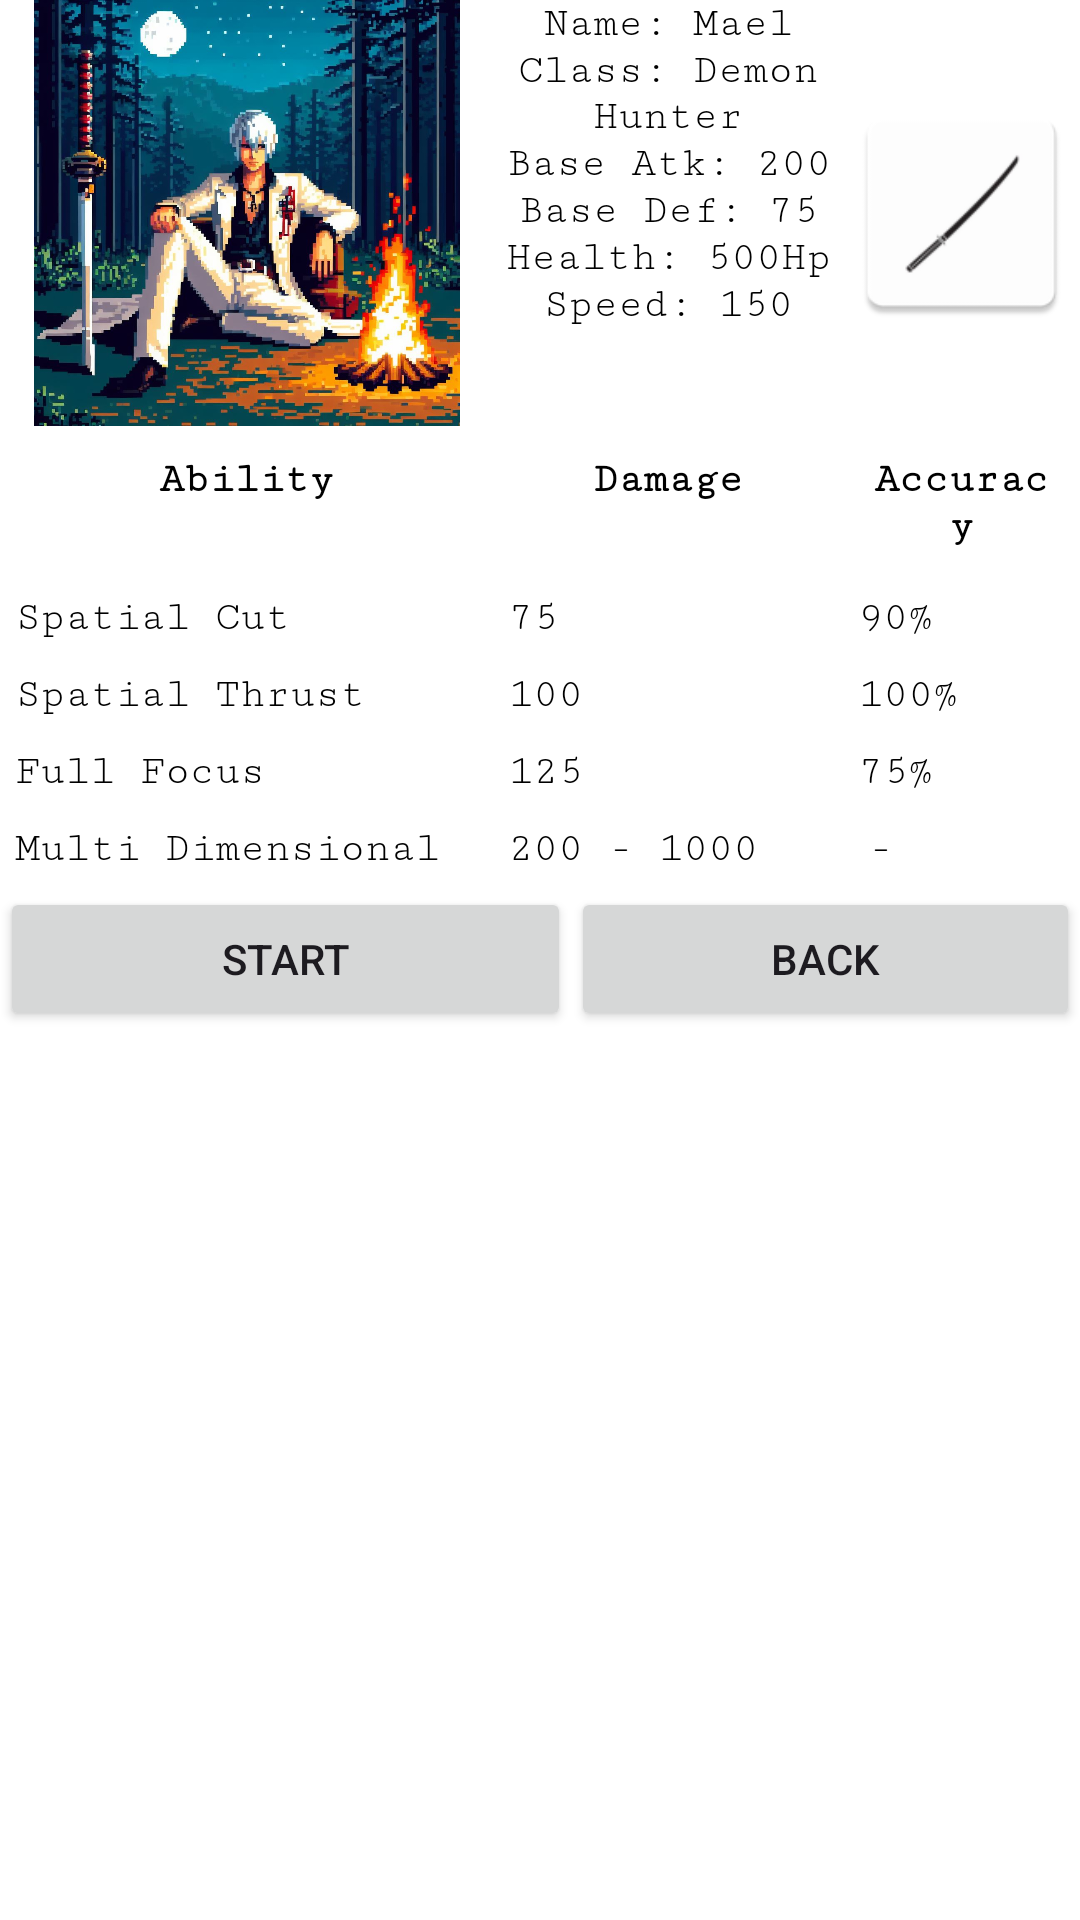

Named icons in this screenshot (1080w x 1920h) and their centers, (x,y):
katana: (962,221)
